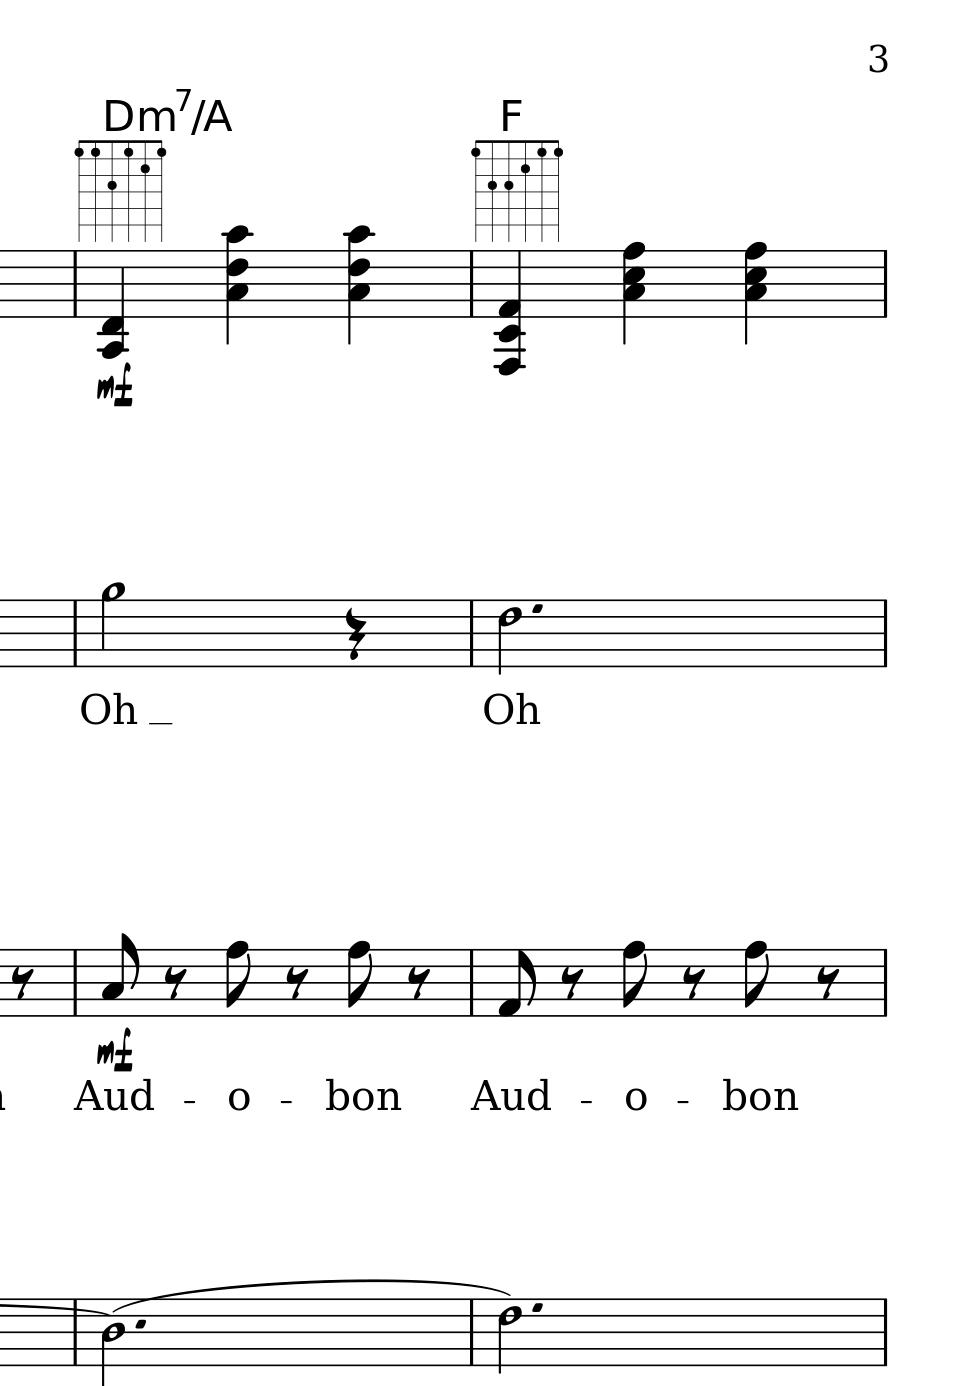2_4: (98, 1296, 125, 1386)
2_6: (496, 597, 526, 676), (496, 1296, 523, 1376)
2_9: (100, 581, 127, 671)
3: (867, 41, 890, 76)
4_-4_-1: (97, 249, 130, 359)
4_th: (494, 248, 527, 380), (218, 224, 253, 346), (342, 226, 375, 343), (742, 241, 767, 344), (620, 243, 645, 344)
8_1: (496, 948, 538, 1018)
8_3: (99, 931, 140, 1018)
8_8: (345, 940, 374, 1019), (224, 940, 253, 1018), (620, 940, 649, 1019), (742, 940, 771, 1019)
Fretboard: (468, 135, 563, 244), (73, 134, 167, 243)
Rests4: (343, 606, 367, 663)
Rests8: (160, 965, 188, 1001), (813, 964, 841, 1000), (558, 964, 584, 1000), (405, 964, 431, 1001), (680, 964, 705, 1001), (283, 965, 309, 1001), (8, 966, 36, 999)
Single_barline: (459, 948, 483, 1018), (873, 250, 894, 318), (461, 251, 483, 318), (462, 1299, 482, 1365), (875, 1298, 893, 1366), (463, 600, 480, 669), (876, 949, 893, 1016), (876, 600, 893, 666), (67, 600, 83, 666), (67, 949, 83, 1015), (68, 1300, 84, 1366), (67, 252, 82, 316)
dot: (529, 1301, 546, 1316), (528, 602, 547, 615), (133, 1317, 147, 1333)
mf: (97, 362, 135, 409), (97, 1028, 134, 1073)
